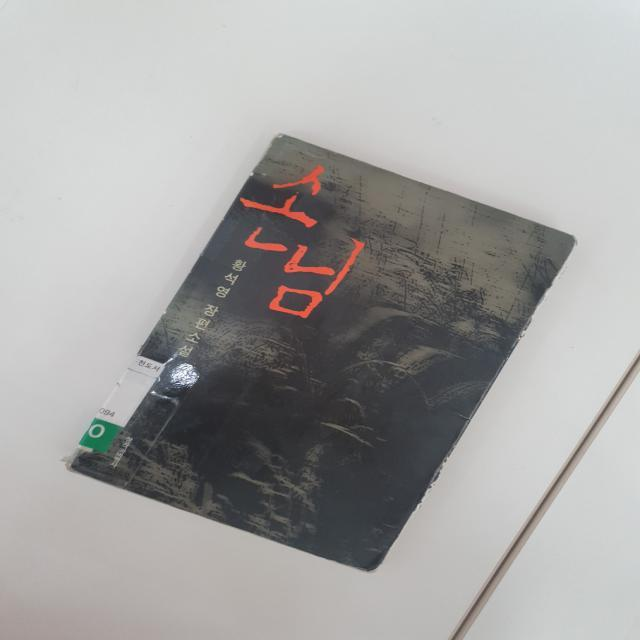Ripped: (56, 449, 82, 477), (246, 166, 274, 180)
Wornout: (517, 232, 581, 341), (411, 445, 457, 519), (263, 129, 292, 157), (218, 214, 231, 225), (184, 267, 197, 276), (159, 309, 172, 318)
